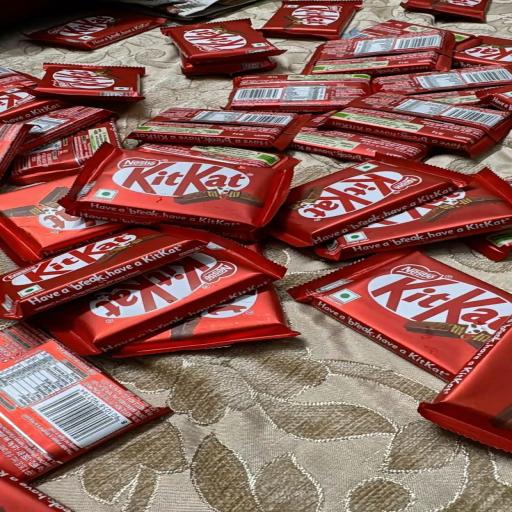kitkat: (65, 120, 326, 274), (299, 268, 512, 428)
